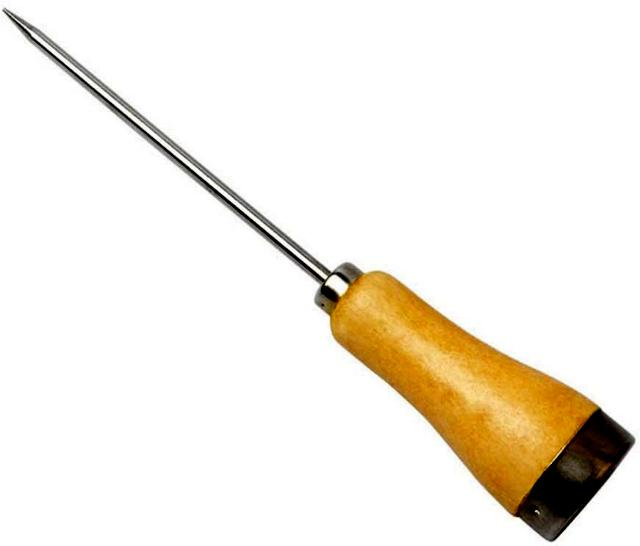ice pick: (2, 8, 634, 540)
